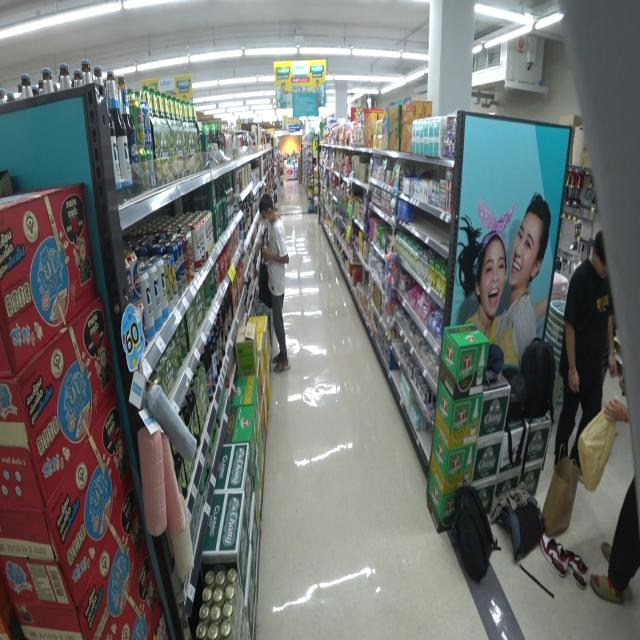shoplifting: (257, 194, 292, 374)
